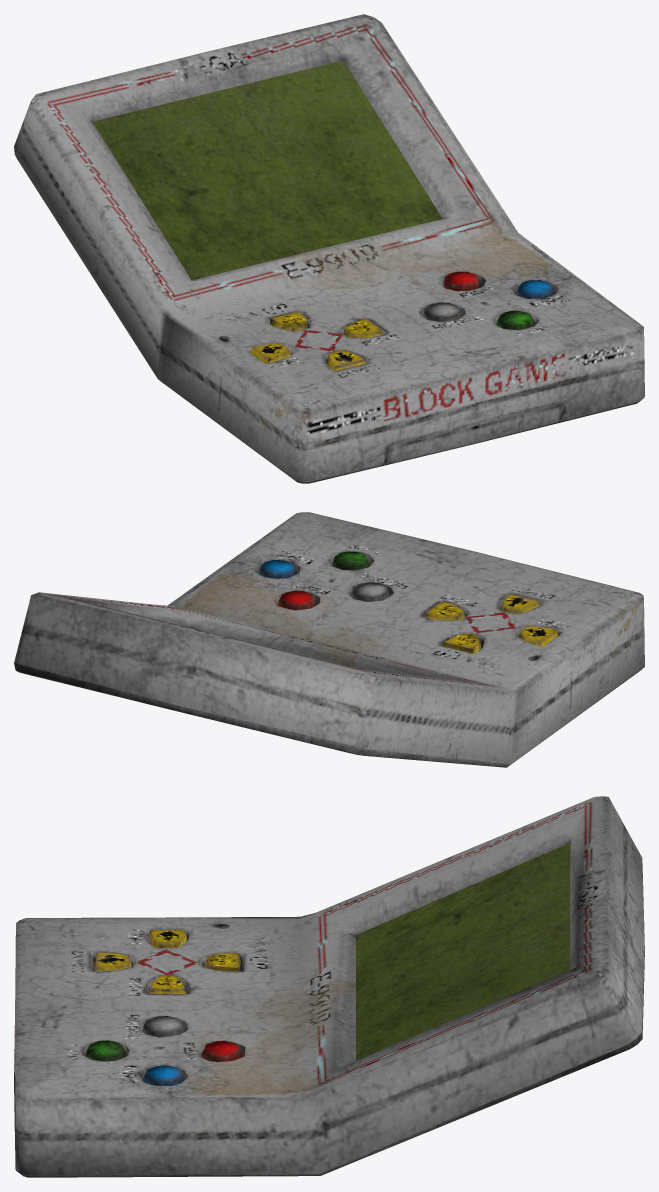
The model's file is retro_toy.fbx.
3 renders of one model, top to bottom at view 1: azimuth 30°, elevation 25°; view 2: azimuth 150°, elevation 25°; view 3: azimuth 270°, elevation 25°, orthographic. The views are drawn at different scales.
Visible parts, largest first — view 1: retro_toy; view 2: retro_toy; view 3: retro_toy.
Part boxes in pixels (x1,y1,x2,y2): retro_toy: (14,14,644,483); retro_toy: (14,512,644,767); retro_toy: (14,796,644,1177).
Bounding box in the file's own units: 34.83 × 18.07 × 49.88.
Materials: 1 (1 with a texture image).
